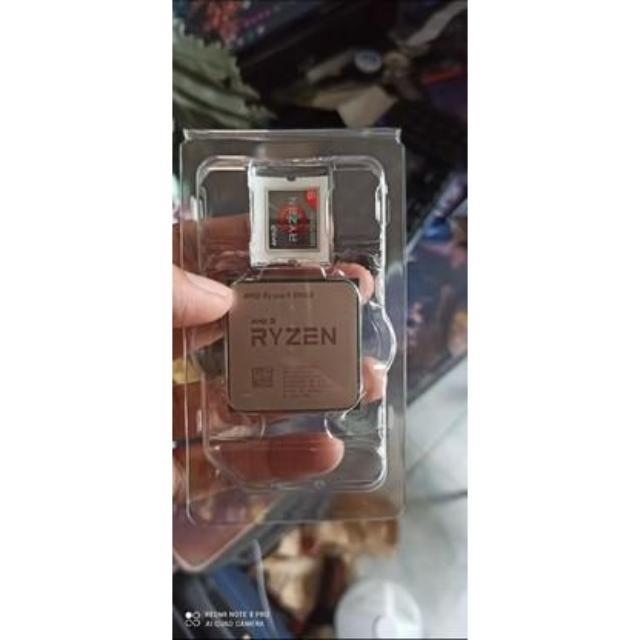CPU: (230, 280, 364, 412)
